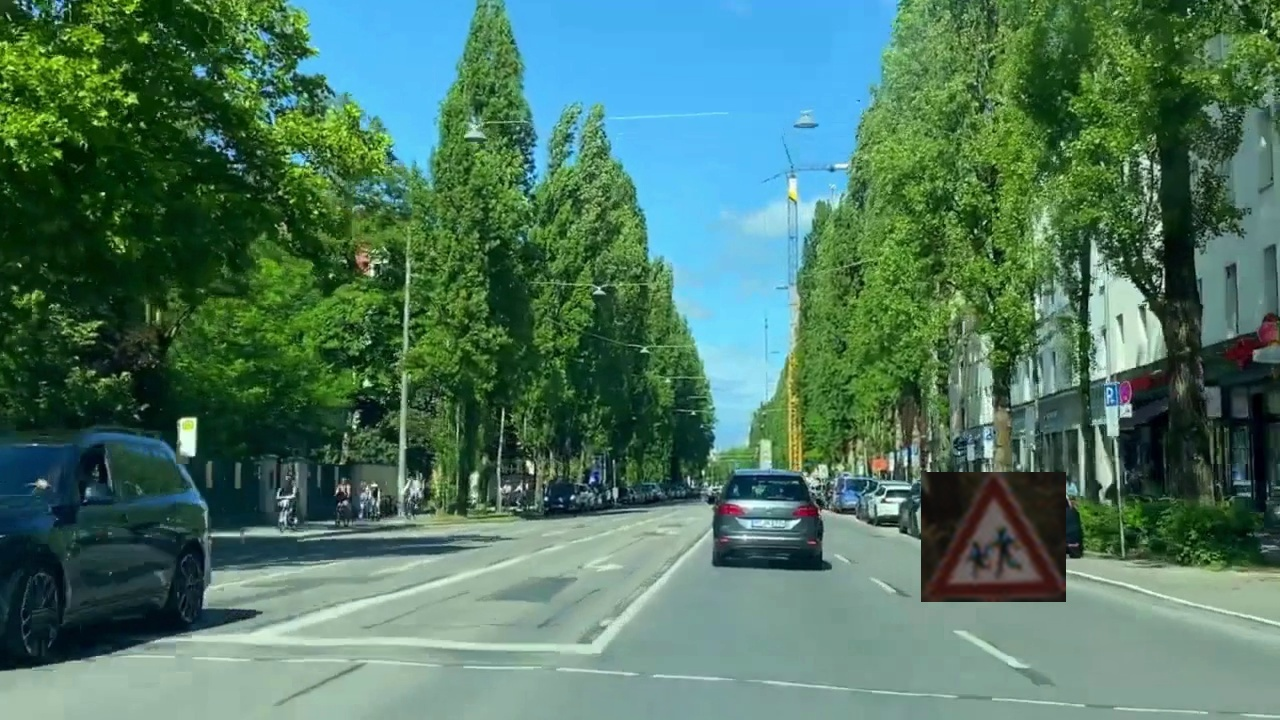Children: (921, 472, 1066, 602)
